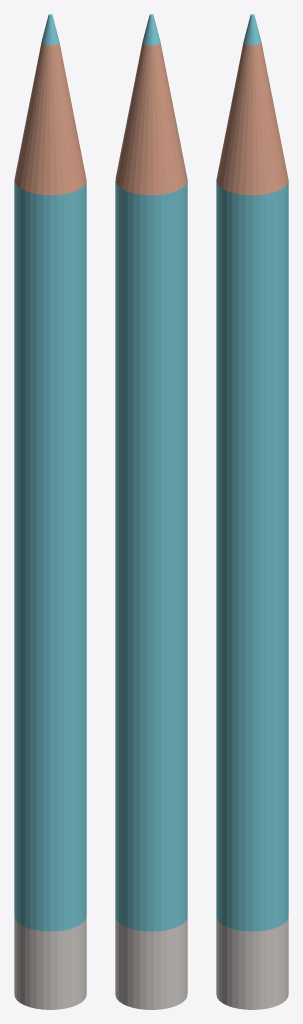
Rendered from pencil1.glb.
The picture shows the model from 3 angles, left to right: view 1: azimuth 90°, elevation 25°; view 2: azimuth 150°, elevation 25°; view 3: azimuth 270°, elevation 25°; orthographic projection.
Parts seen in each view (by area): view 1: Cylinder; view 2: Cylinder; view 3: Cylinder.
Boxes of the visible parts, bbox=[...] form: Cylinder: bbox=[14, 14, 86, 1009]; Cylinder: bbox=[115, 14, 187, 1009]; Cylinder: bbox=[216, 14, 288, 1009].
Bounding box in the file's own units: 0.1777 × 2.66 × 0.1777.
